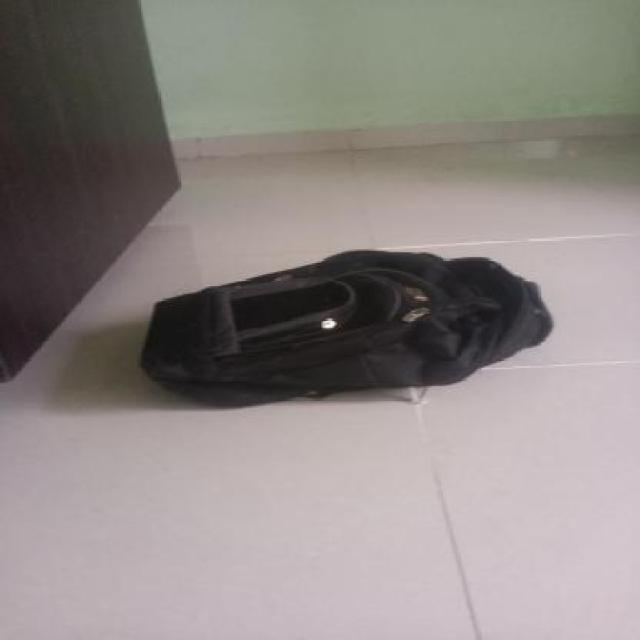backpack: (135, 241, 557, 414)
